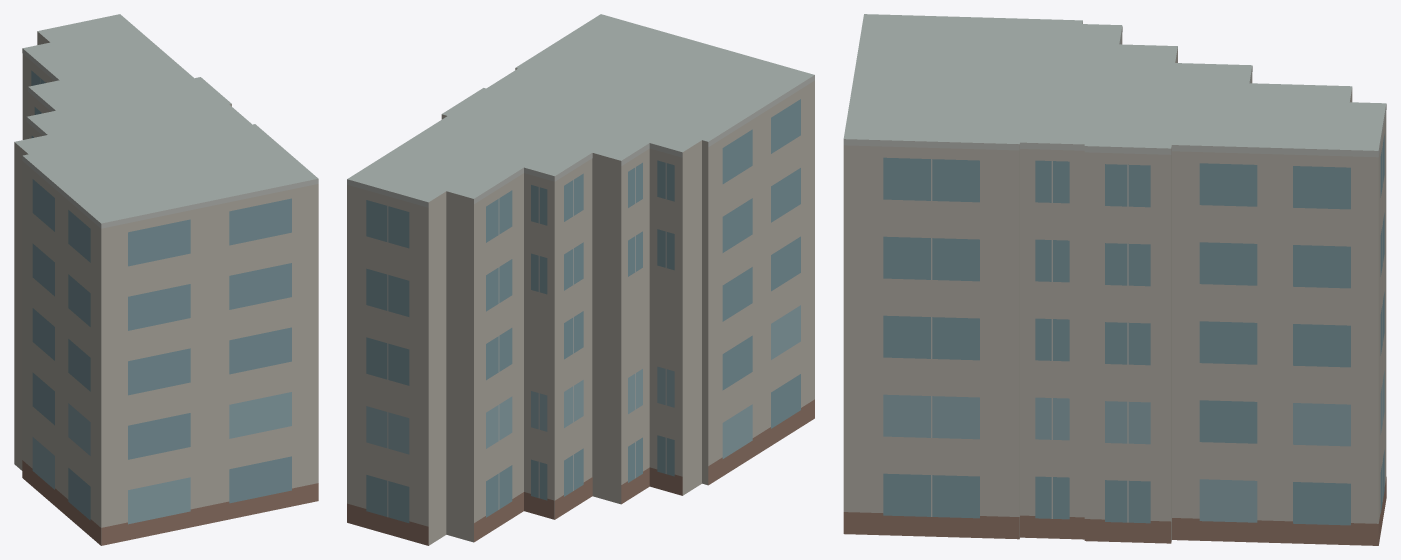
The model's file is survey-upis-33007857.glb.
3 views of the same model, side by side, from view 1: azimuth 30°, elevation 25°; view 2: azimuth 150°, elevation 25°; view 3: azimuth 270°, elevation 25° (orthographic). The views are drawn at different scales.
Visible parts, largest first — view 1: survey-upis-33007857.tmp; view 2: survey-upis-33007857.tmp; view 3: survey-upis-33007857.tmp.
Part boxes in pixels (left/top/right/bottom): survey-upis-33007857.tmp: left=14, top=14, right=318, bottom=545; survey-upis-33007857.tmp: left=347, top=14, right=814, bottom=545; survey-upis-33007857.tmp: left=843, top=14, right=1386, bottom=545.
Bounding box in the file's own units: 11.35 × 15.25 × 19.01.
